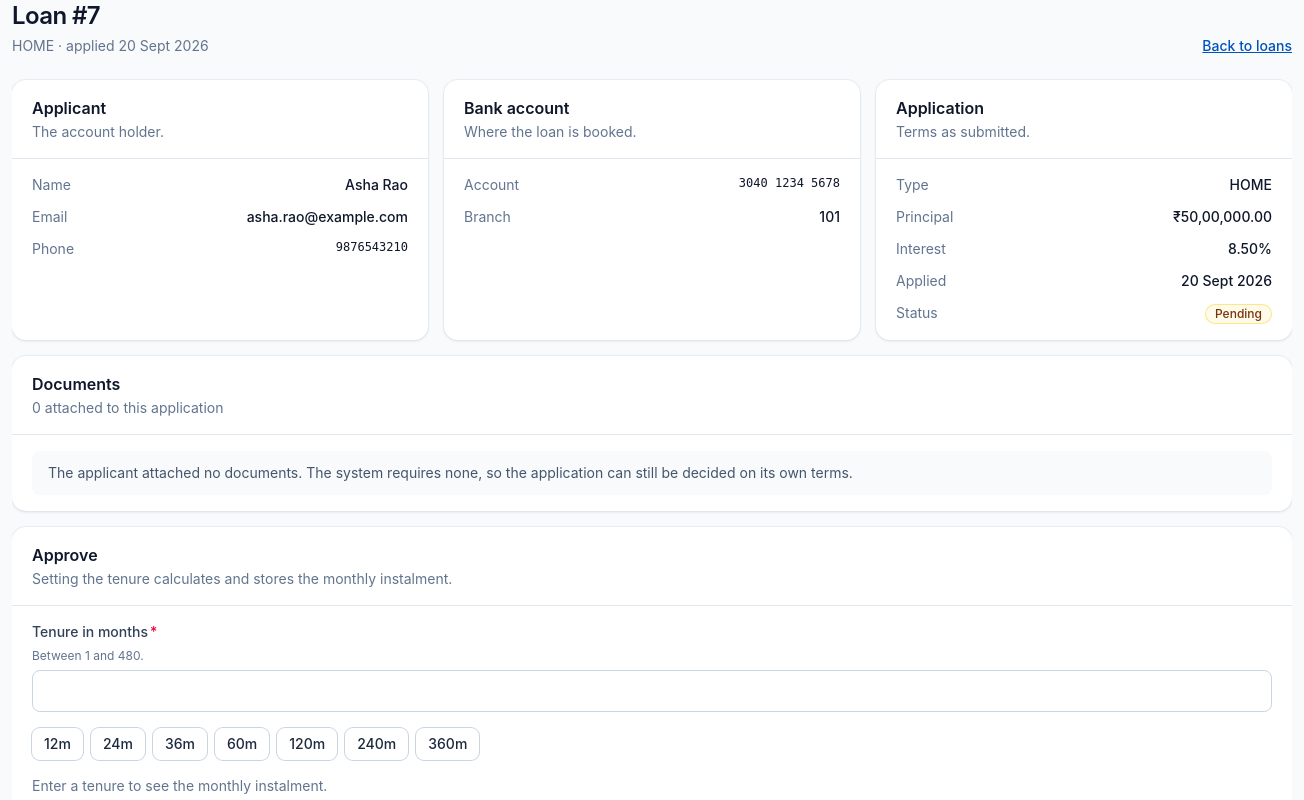
Test: LoanDetailPage › approval › previews the EMI as the tenure is chosen, then approves
The width and height of the screenshot is (1304, 800).
Expected: the text "Asha Rao" is shown, [345,175,408,195]
The preset buttons make the tenure easy to set in a test and in use.
Click the button "240m": (377, 744) [345,728,408,760]
(page scrolled)
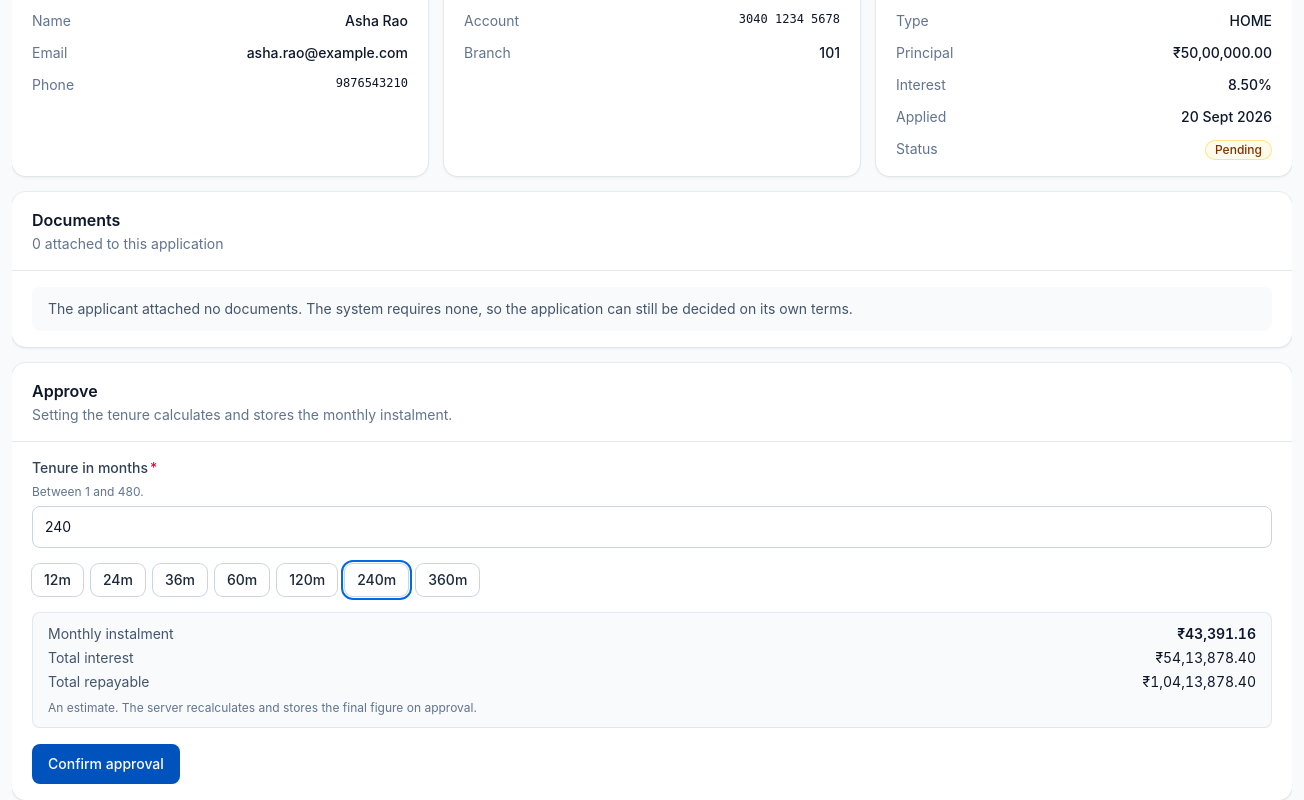
Now the text "₹43,391.16" is shown, box [1177,624,1256,644]
Click the button "Confirm approval": (106, 764) [32,744,180,784]
(page scrolled)
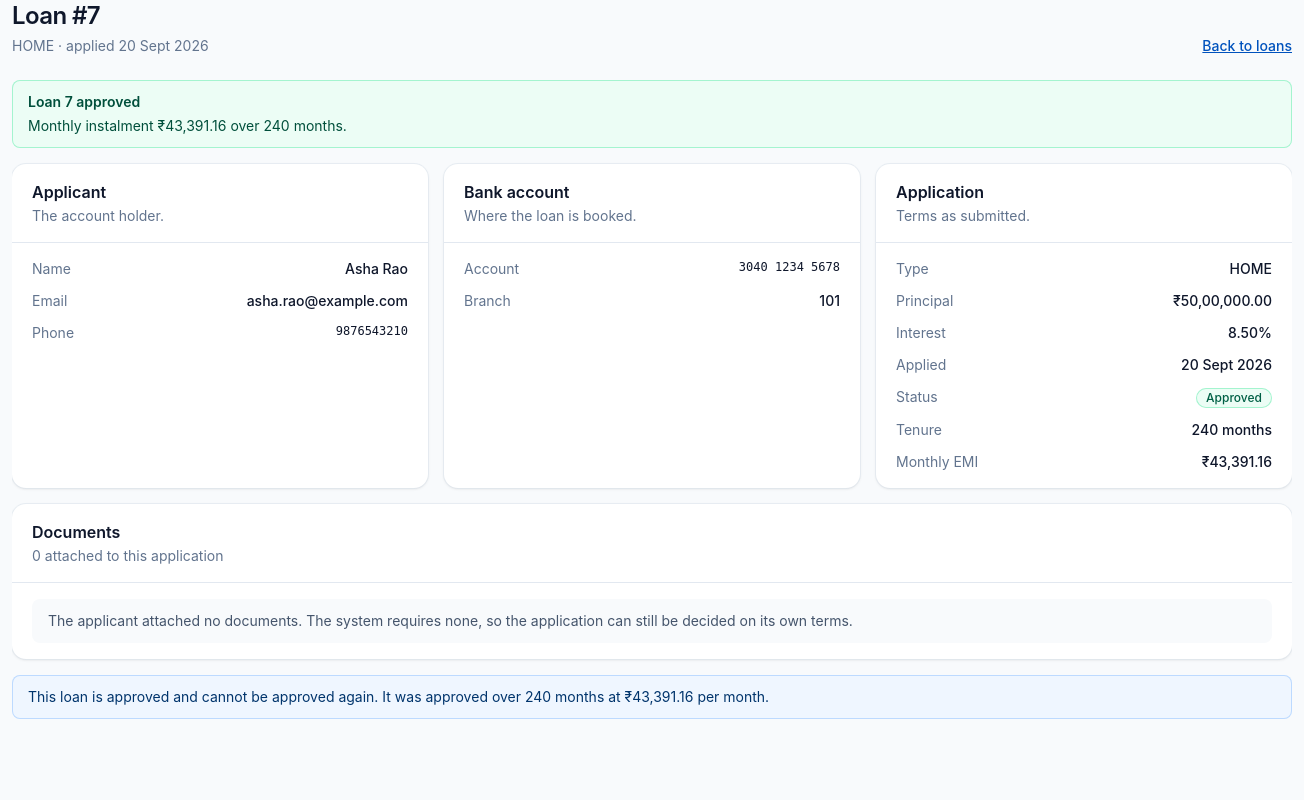
Now the text "Loan 7 approved" is shown, box [28,93,140,110]
Now the text "Monthly instalment ₹43,391.16 over 240 months." is shown, box [28,117,347,134]
